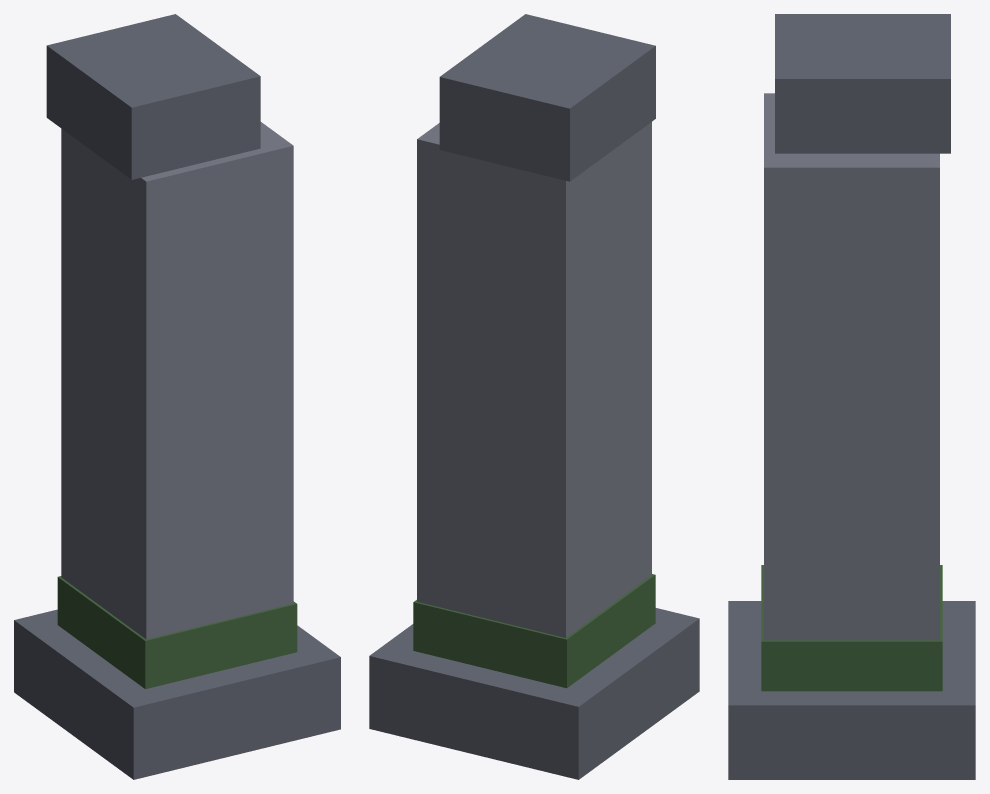
The model's file is pillar.glb.
3 renders of one model, left to right at view 1: azimuth 30°, elevation 25°; view 2: azimuth 150°, elevation 25°; view 3: azimuth 270°, elevation 25°, orthographic. The views are drawn at different scales.
Visible parts, largest first — view 1: pillar; view 2: pillar; view 3: pillar.
Boxes of the visible parts, x1=… form: pillar: x1=14, y1=14, x2=340, y2=779; pillar: x1=369, y1=14, x2=699, y2=779; pillar: x1=728, y1=14, x2=975, y2=779.
Size of the model in its own units: 0.9 by 2.7 by 0.9.
1 material, 1 textured.
